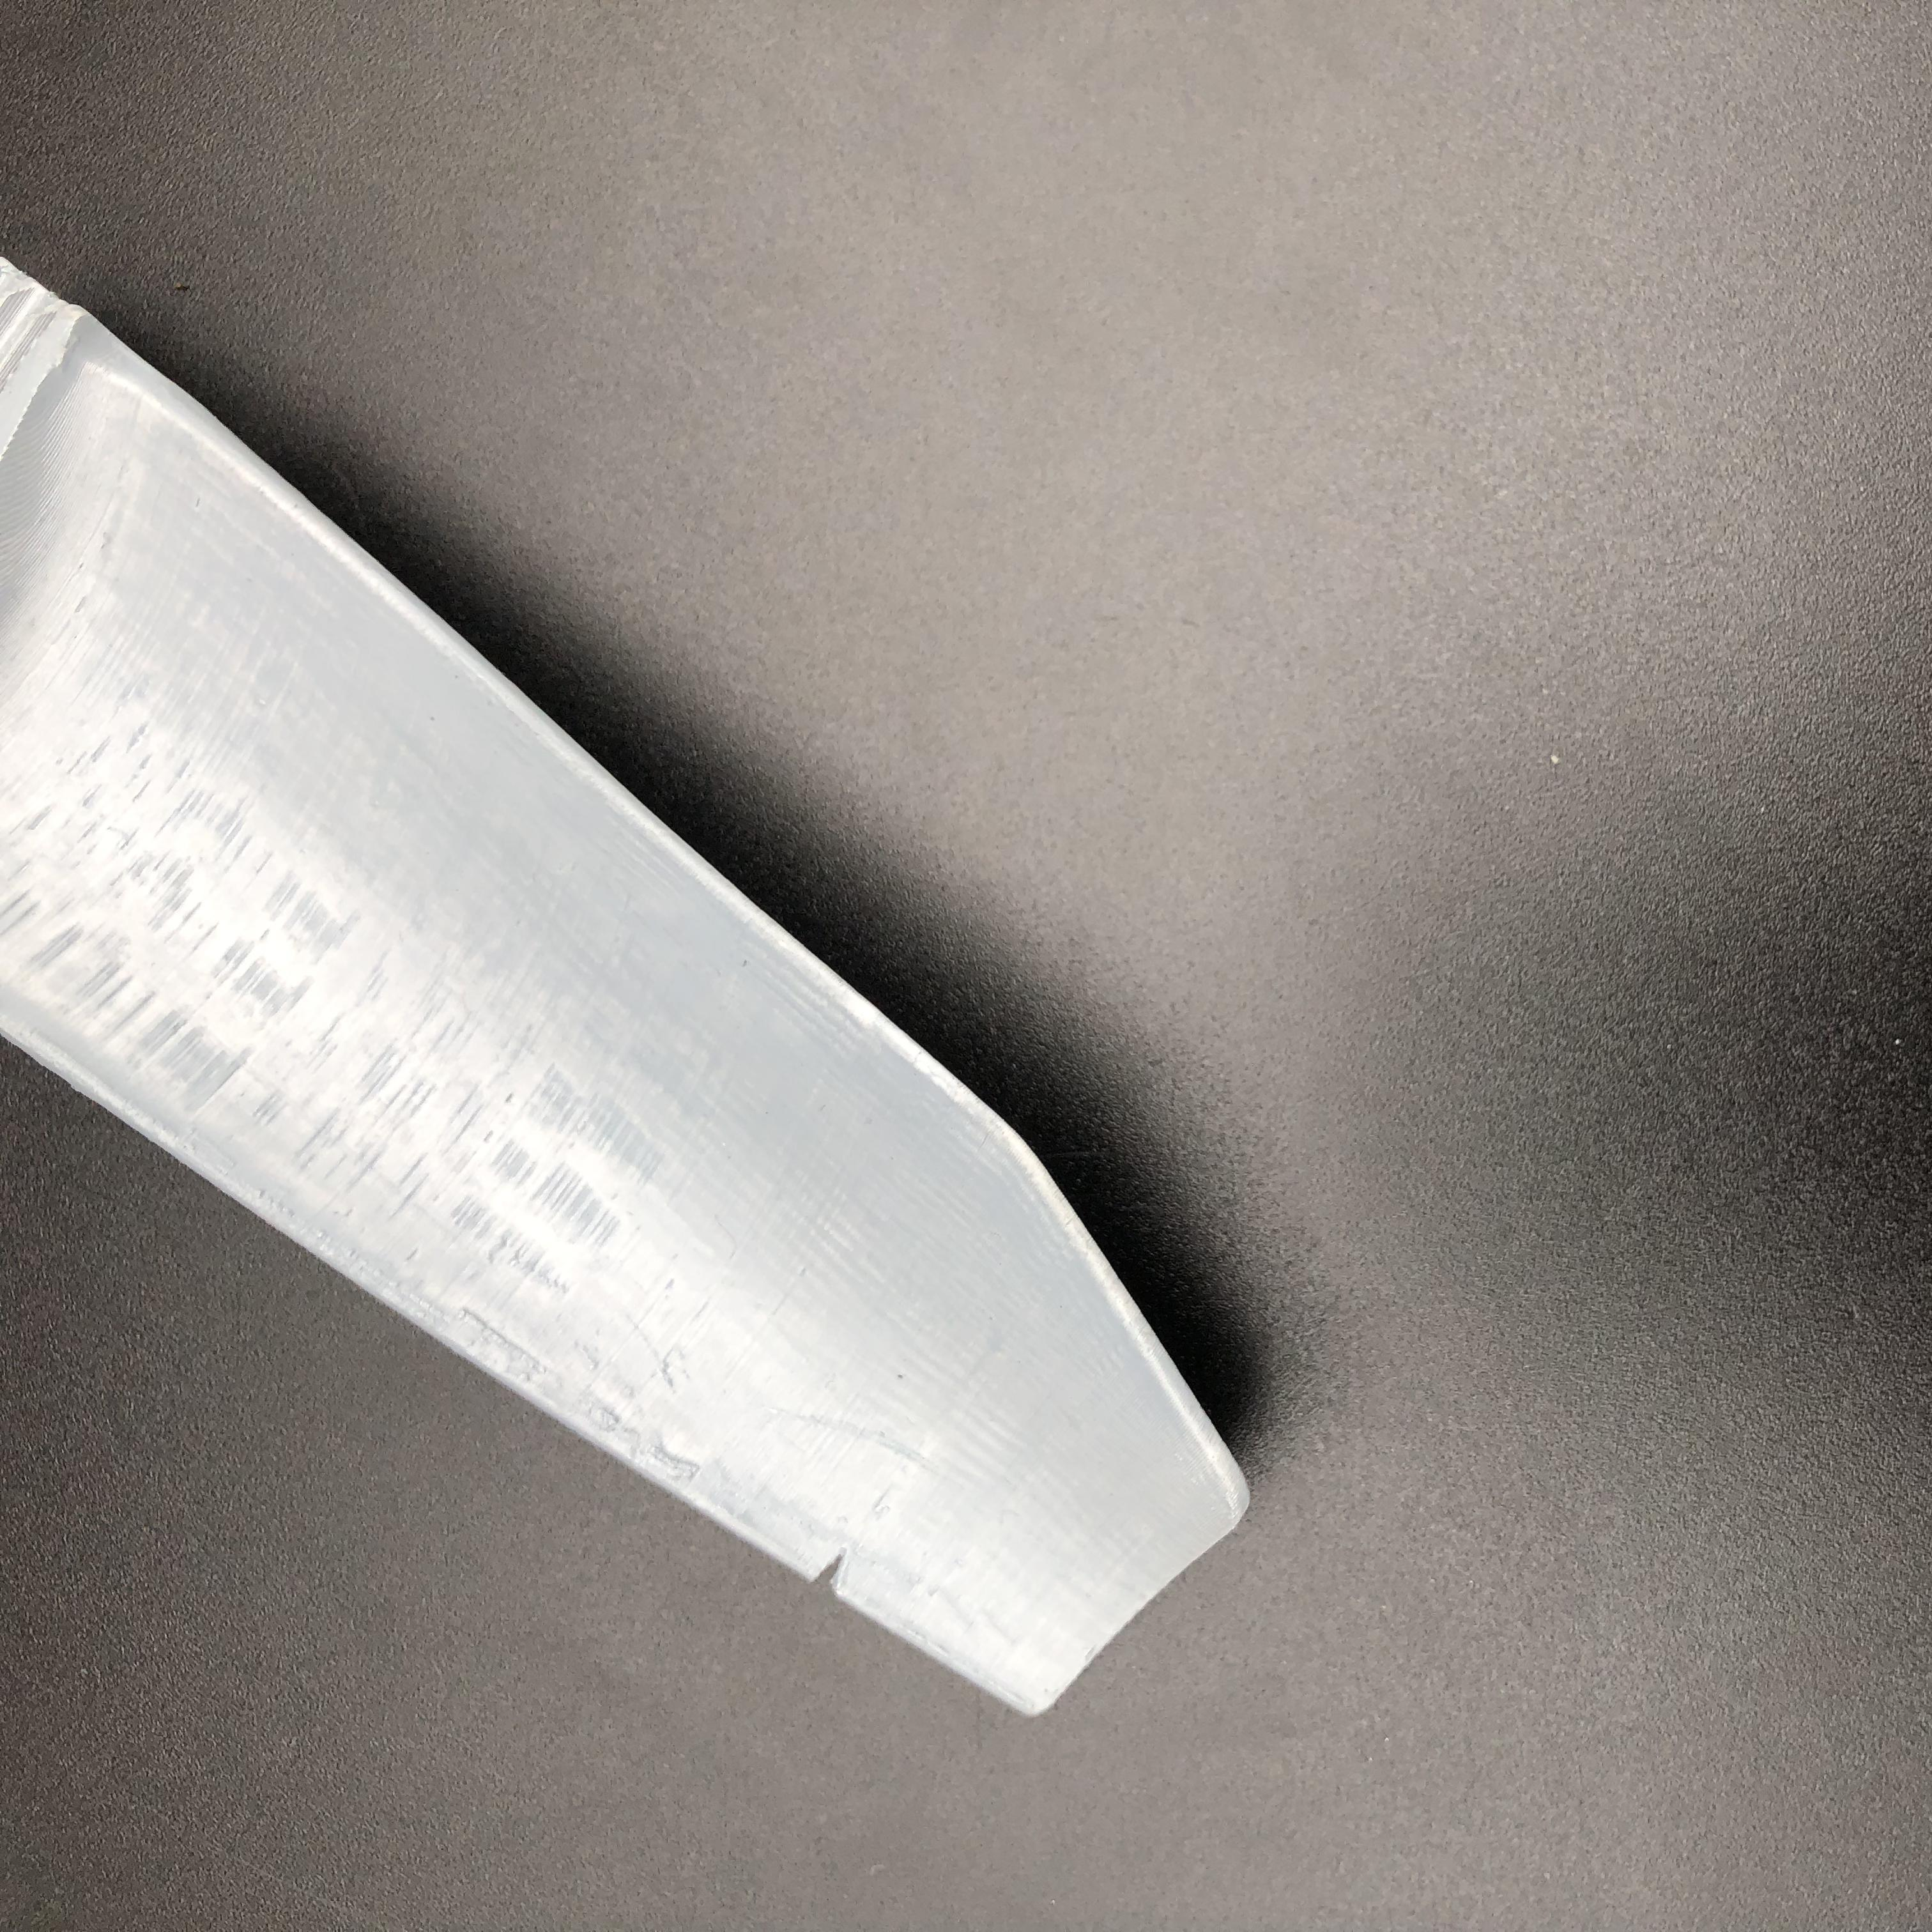groove: (803, 1546, 862, 1605)
